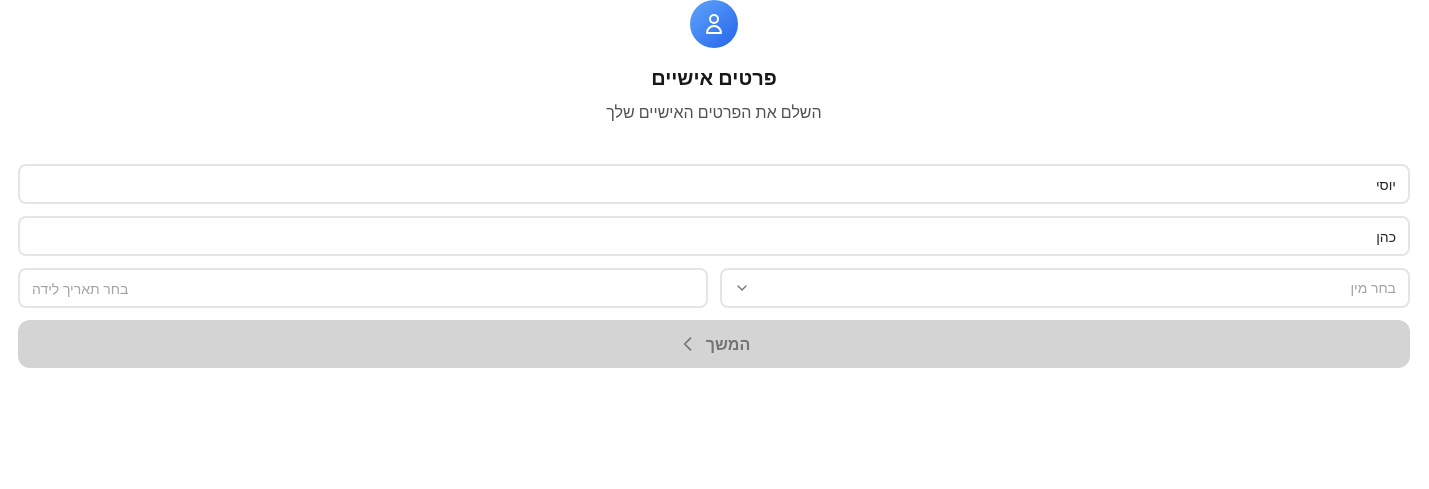
Test: PersonalDetailsStep › Real-time Validation › flips the submit button to enabled as the last required field becomes valid
Expected: the button with test id "continue-button" is disabled, [18,320,1410,368]
Click the button "בחר מין" at (1373, 288), box [720,268,1410,308]
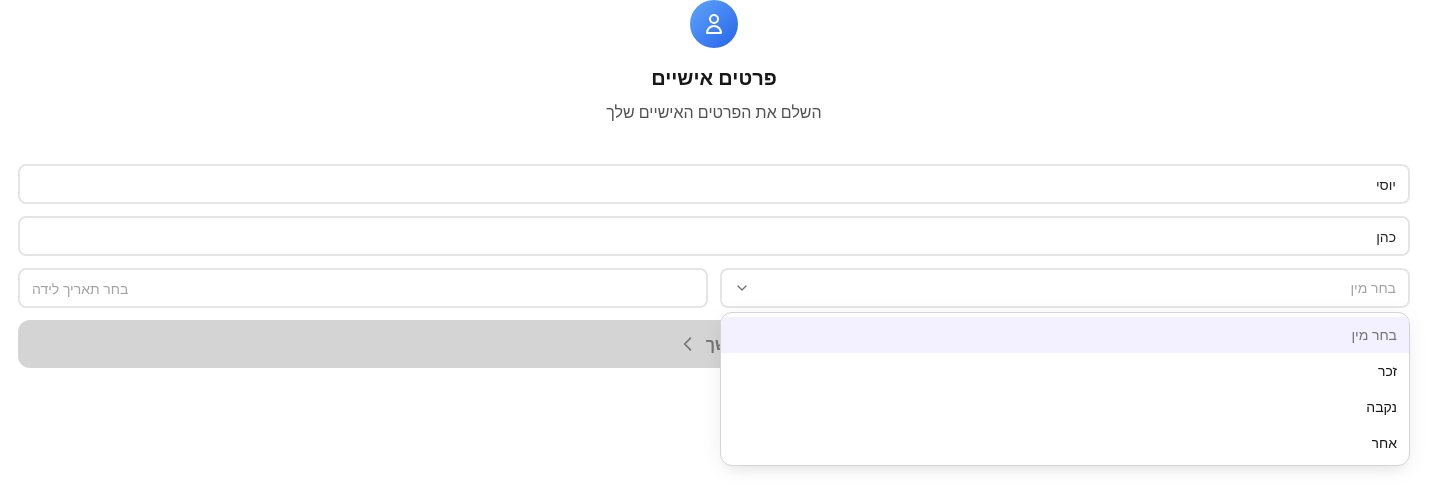
Click the option "זכר" at (1387, 370), box [1378,361,1397,380]
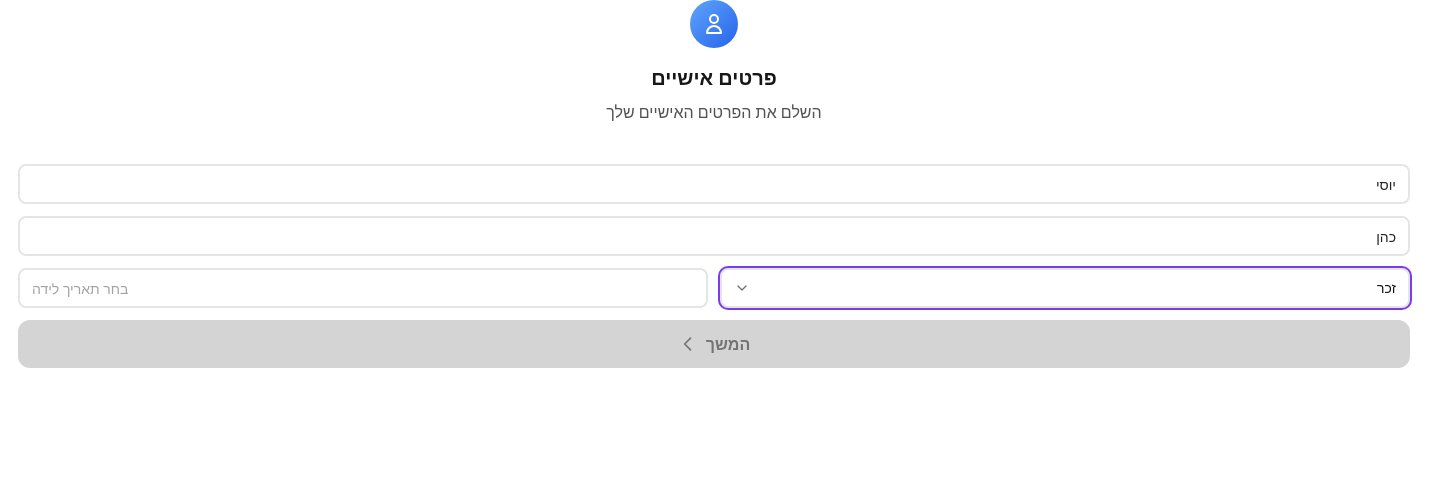
Expected: the button with test id "continue-button" is disabled, [18,320,1410,368]
Type "1990-01-01" into the field with test id "birthdate-input" at (363, 288), box [18,268,708,308]
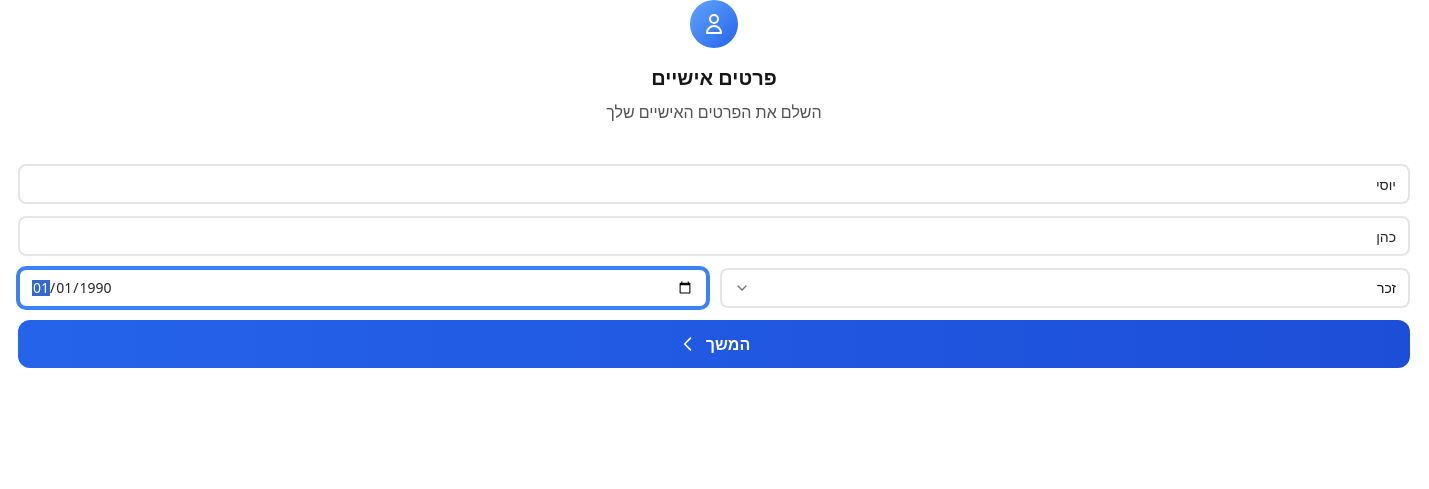
Expected: the button with test id "continue-button" is enabled, [18,320,1410,368]
